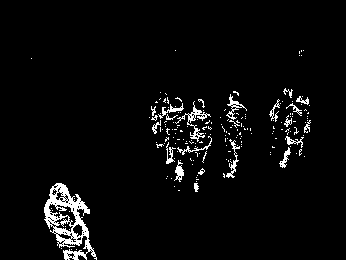person: (43, 182, 97, 260), (219, 88, 252, 182), (182, 96, 213, 196), (278, 92, 313, 170), (160, 96, 191, 165), (268, 86, 297, 153), (149, 88, 174, 165)
